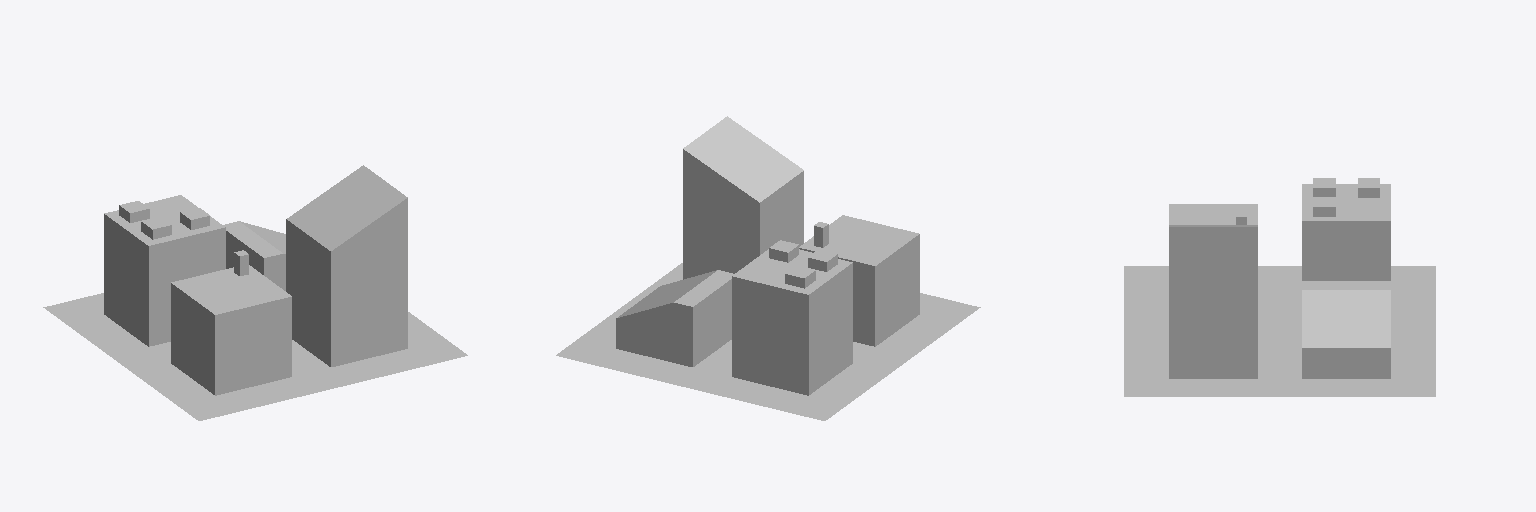
File: city.obj
3 views of the same model, side by side, from view 1: azimuth 30°, elevation 25°; view 2: azimuth 150°, elevation 25°; view 3: azimuth 270°, elevation 25° (orthographic).
Parts seen in each view (by area): view 1: cuboid; view 2: cuboid; view 3: cuboid.
Part boxes in pixels (bbox=[...]): cuboid: bbox=[43, 165, 467, 420]; cuboid: bbox=[556, 116, 980, 420]; cuboid: bbox=[1124, 178, 1435, 396].
Bounding box in the file's own units: 0.875 × 0.4688 × 0.875.